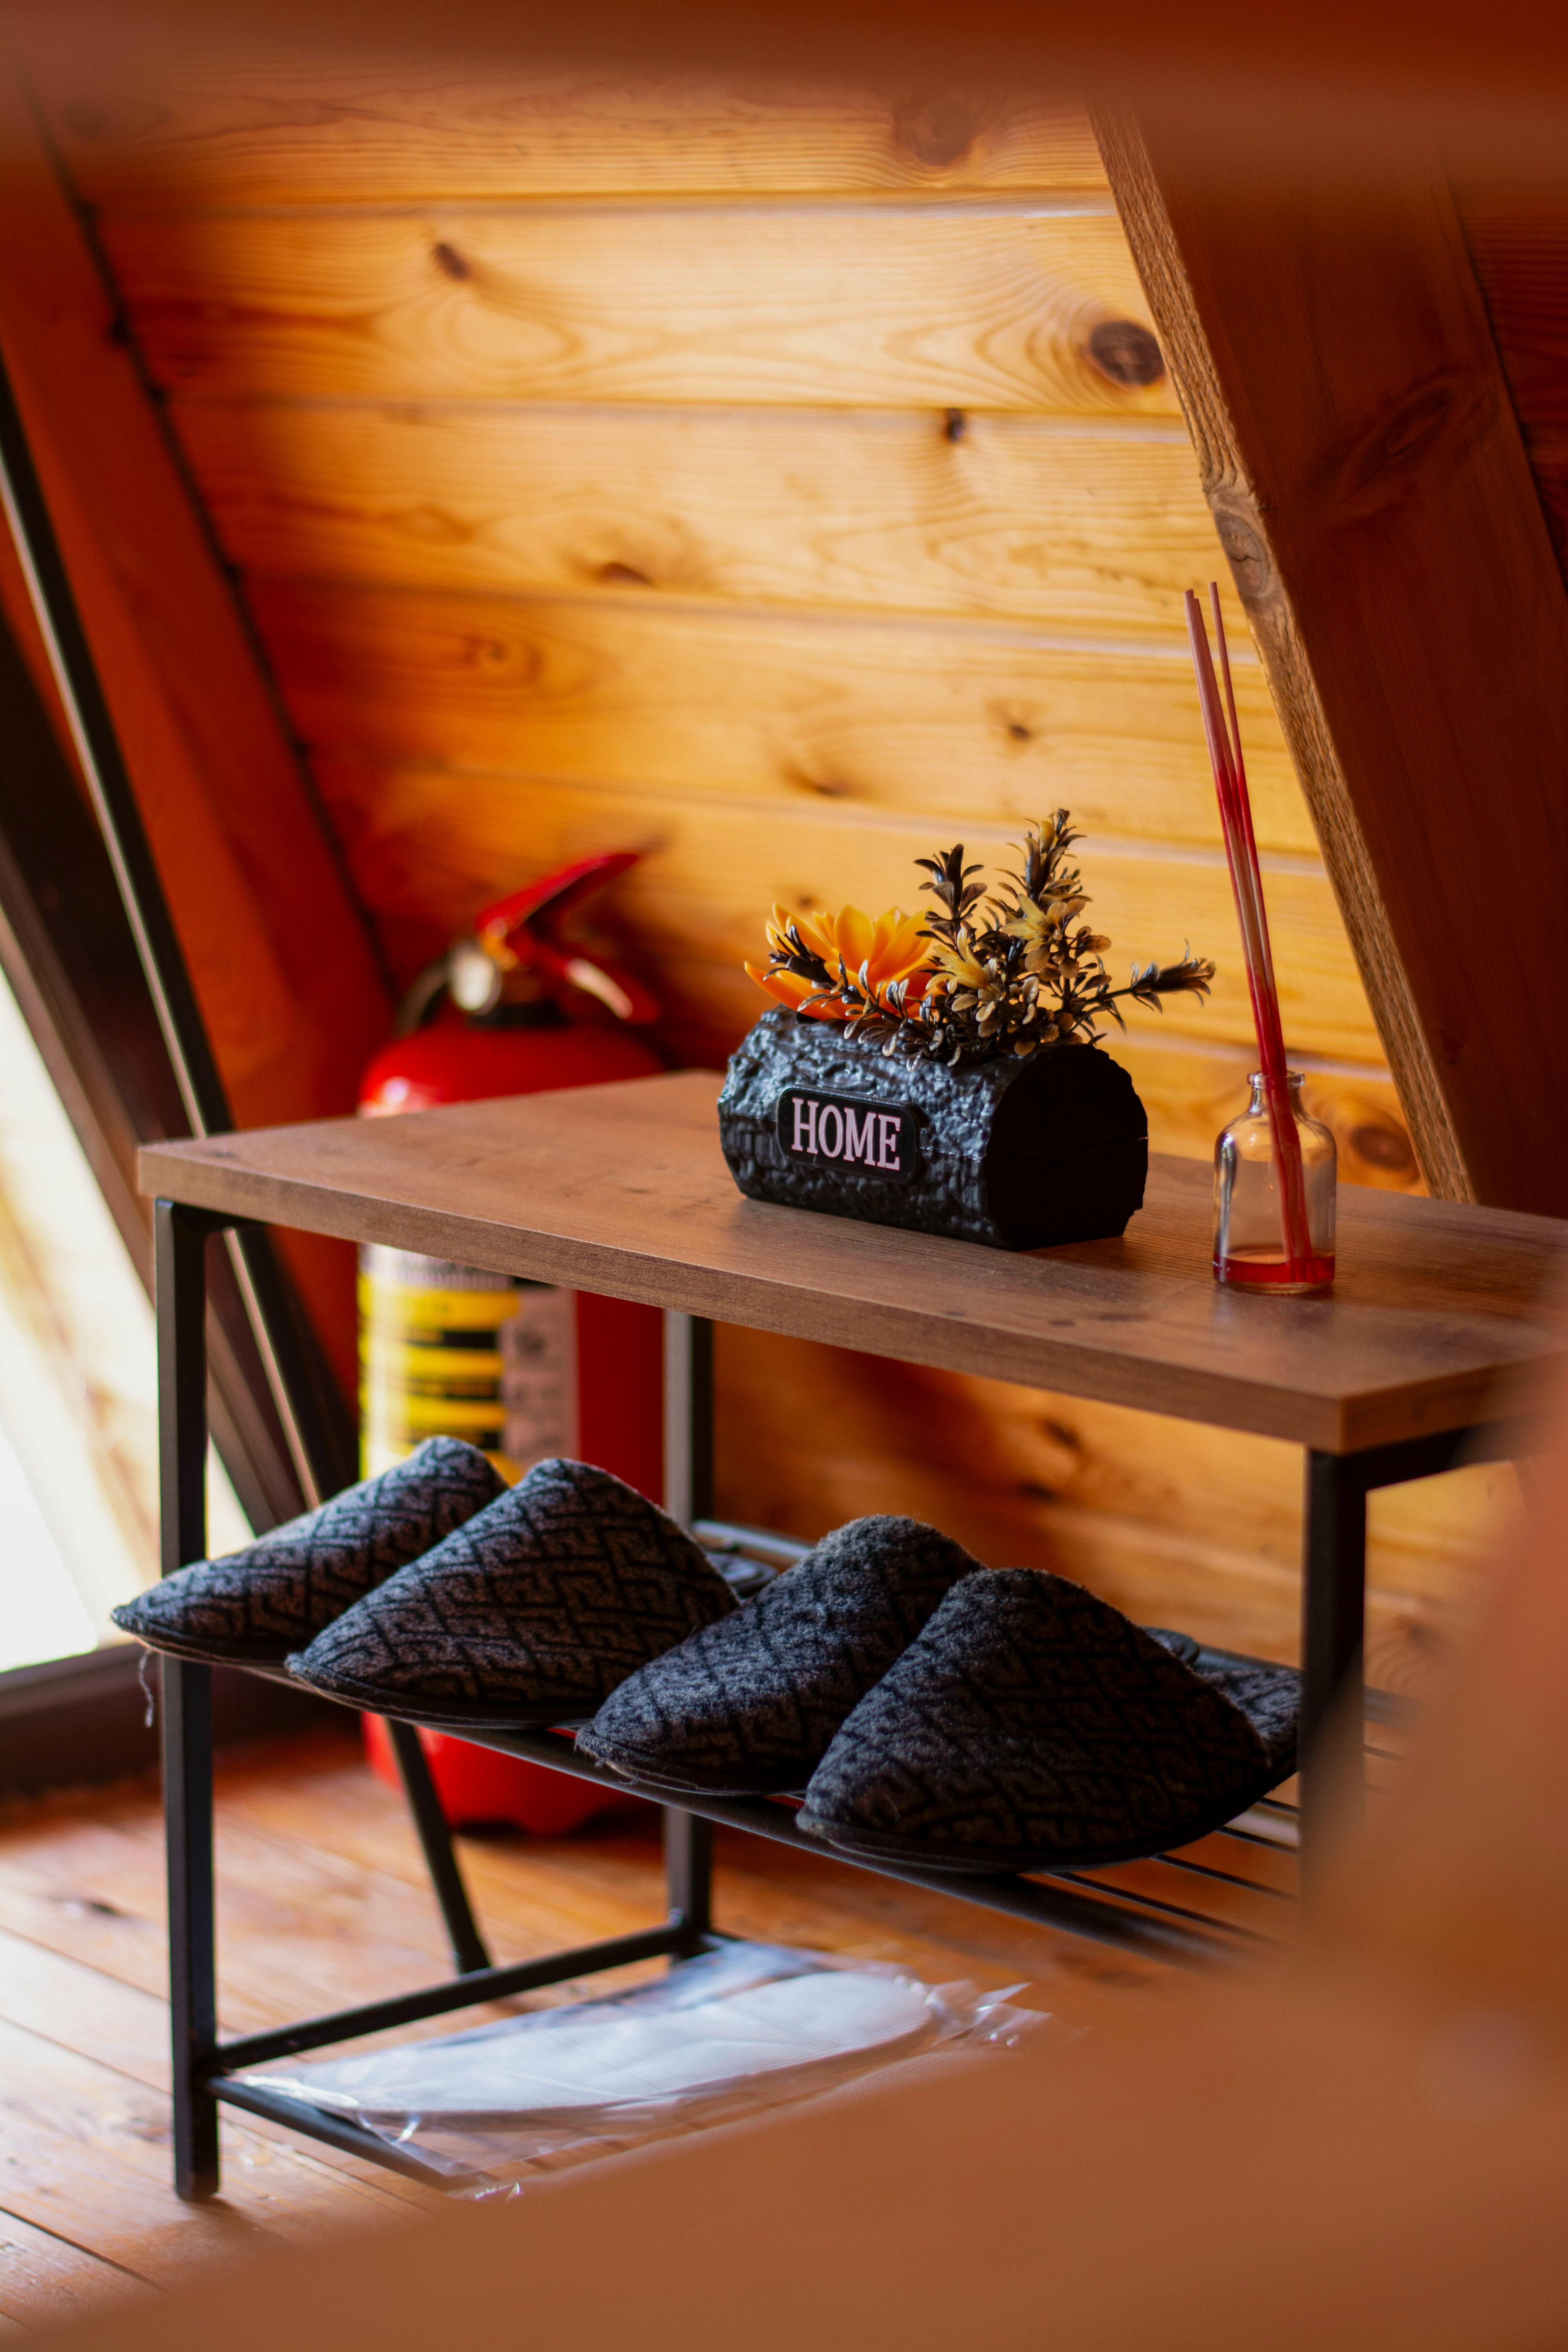extintor: (354, 833, 683, 1829)
